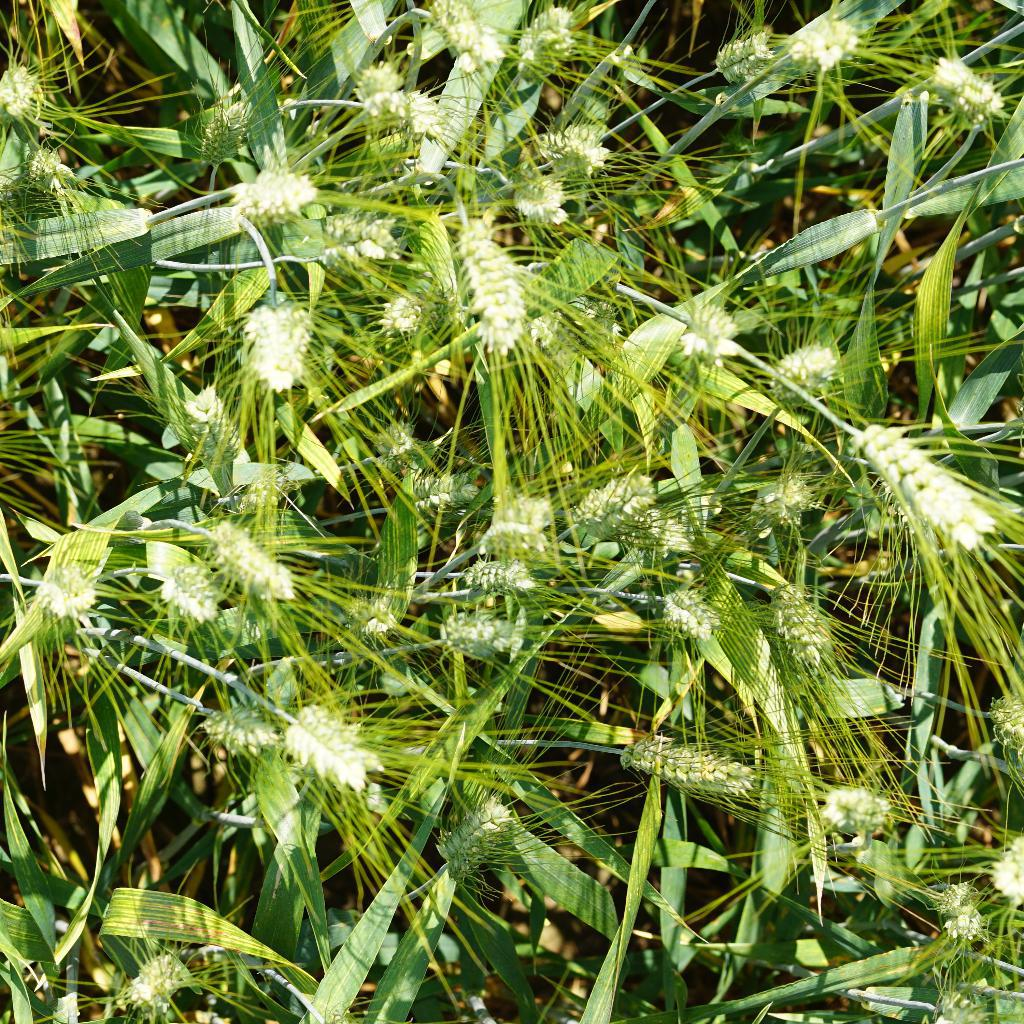0-0: (845, 418, 998, 552), (608, 718, 759, 818), (455, 204, 539, 358), (272, 702, 392, 804), (513, 284, 646, 368), (425, 795, 524, 899), (190, 512, 303, 602), (228, 290, 324, 395), (744, 576, 837, 676), (179, 686, 295, 766), (722, 471, 823, 557), (565, 471, 664, 553), (918, 37, 1008, 123), (176, 89, 262, 178), (509, 0, 598, 86), (524, 108, 623, 180), (114, 937, 202, 1016), (759, 329, 837, 418), (417, 0, 499, 81), (378, 464, 496, 520), (810, 766, 893, 843), (145, 559, 232, 632), (703, 18, 777, 103), (228, 165, 325, 228), (488, 161, 579, 228), (434, 608, 540, 665), (641, 580, 731, 647), (927, 877, 1002, 953), (18, 559, 105, 623), (355, 404, 441, 467), (355, 83, 451, 138), (313, 212, 400, 266), (458, 559, 560, 605), (796, 10, 866, 73), (486, 489, 552, 552), (331, 591, 397, 653), (223, 468, 290, 525), (0, 51, 48, 130), (182, 387, 240, 447), (686, 305, 737, 373), (11, 149, 81, 197), (978, 829, 1024, 899), (372, 287, 428, 343), (340, 56, 402, 96), (982, 694, 1024, 745)
